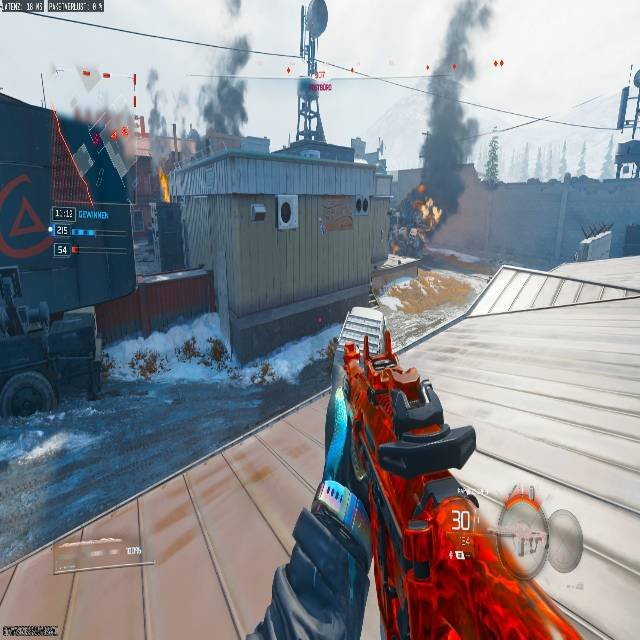player: (404, 185, 440, 254)
